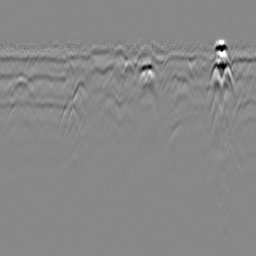cavity: (120, 58, 136, 89)
